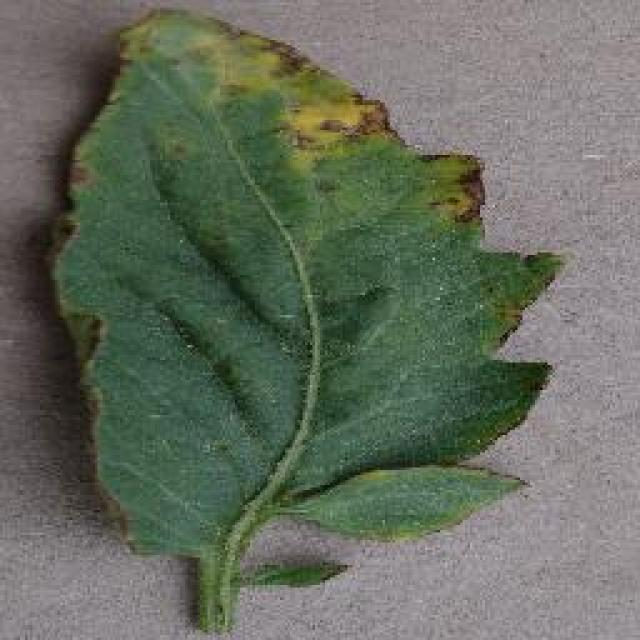Tomato___Bacterial_spot: (46, 7, 573, 638)
